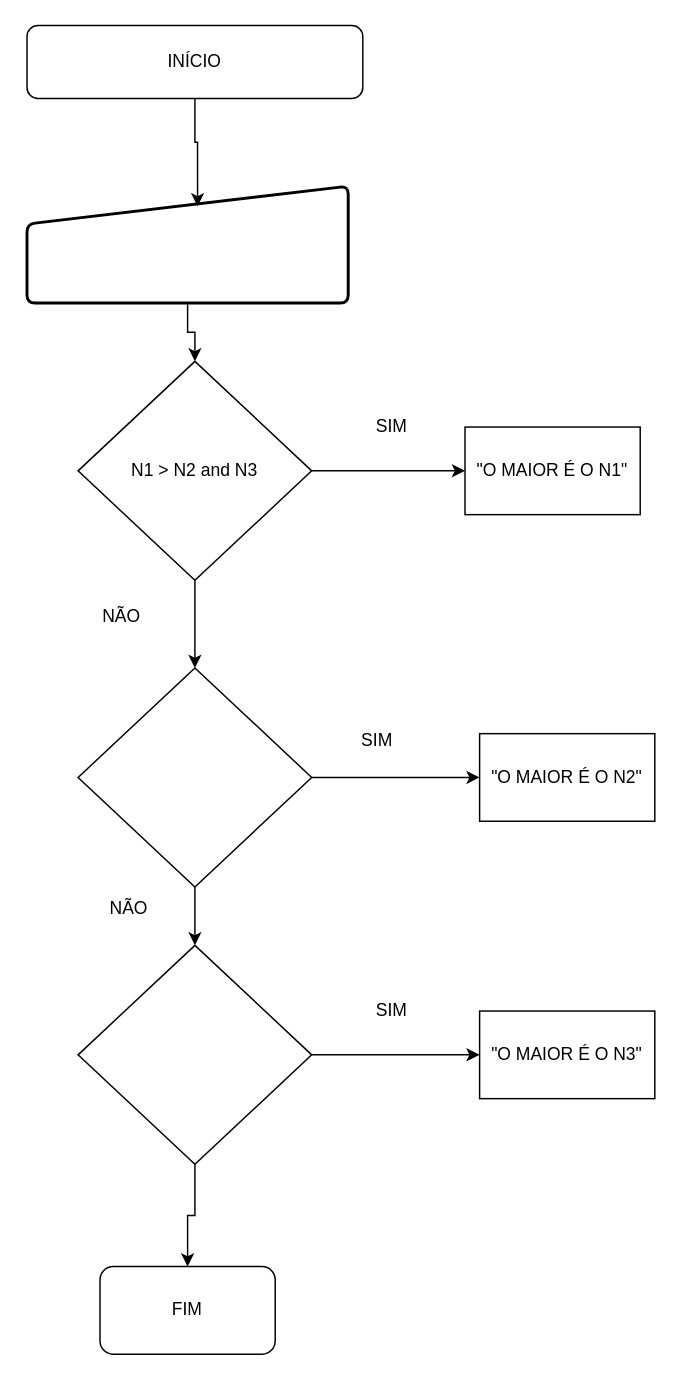
The diagram is 680 pixels wide and 1380 high, and some of its shapes have lost their labels. The centre of each missing label's shape, as x and y in pixels:
"N2 > N1 AND N3" belongs at point (194, 776).
"N3 > N1 AND N2" belongs at point (194, 1054).
"VALORES DE DADOS (N1, N2, N3)" belongs at point (187, 244).
